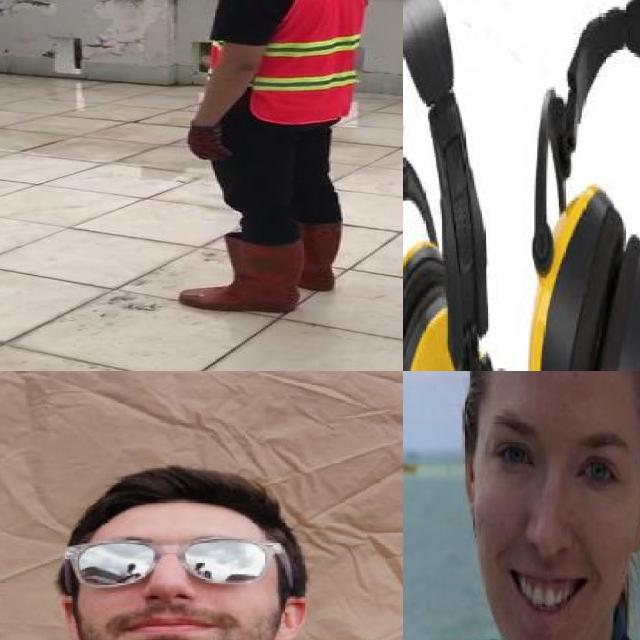Ear-protection: (523, 3, 640, 371), (403, 0, 498, 371)
No_Ear-Protection: (268, 581, 311, 640)
No_Glasses: (467, 398, 640, 522)
boots: (250, 0, 366, 124), (182, 235, 308, 316), (295, 219, 348, 291)
face_nomask: (467, 391, 636, 629), (74, 529, 268, 640)
glasses: (64, 526, 302, 587)
hand_glove: (188, 124, 233, 161)
head_nohelmet: (75, 464, 278, 528)
person: (161, 0, 376, 325), (0, 467, 403, 640), (403, 371, 640, 640)
